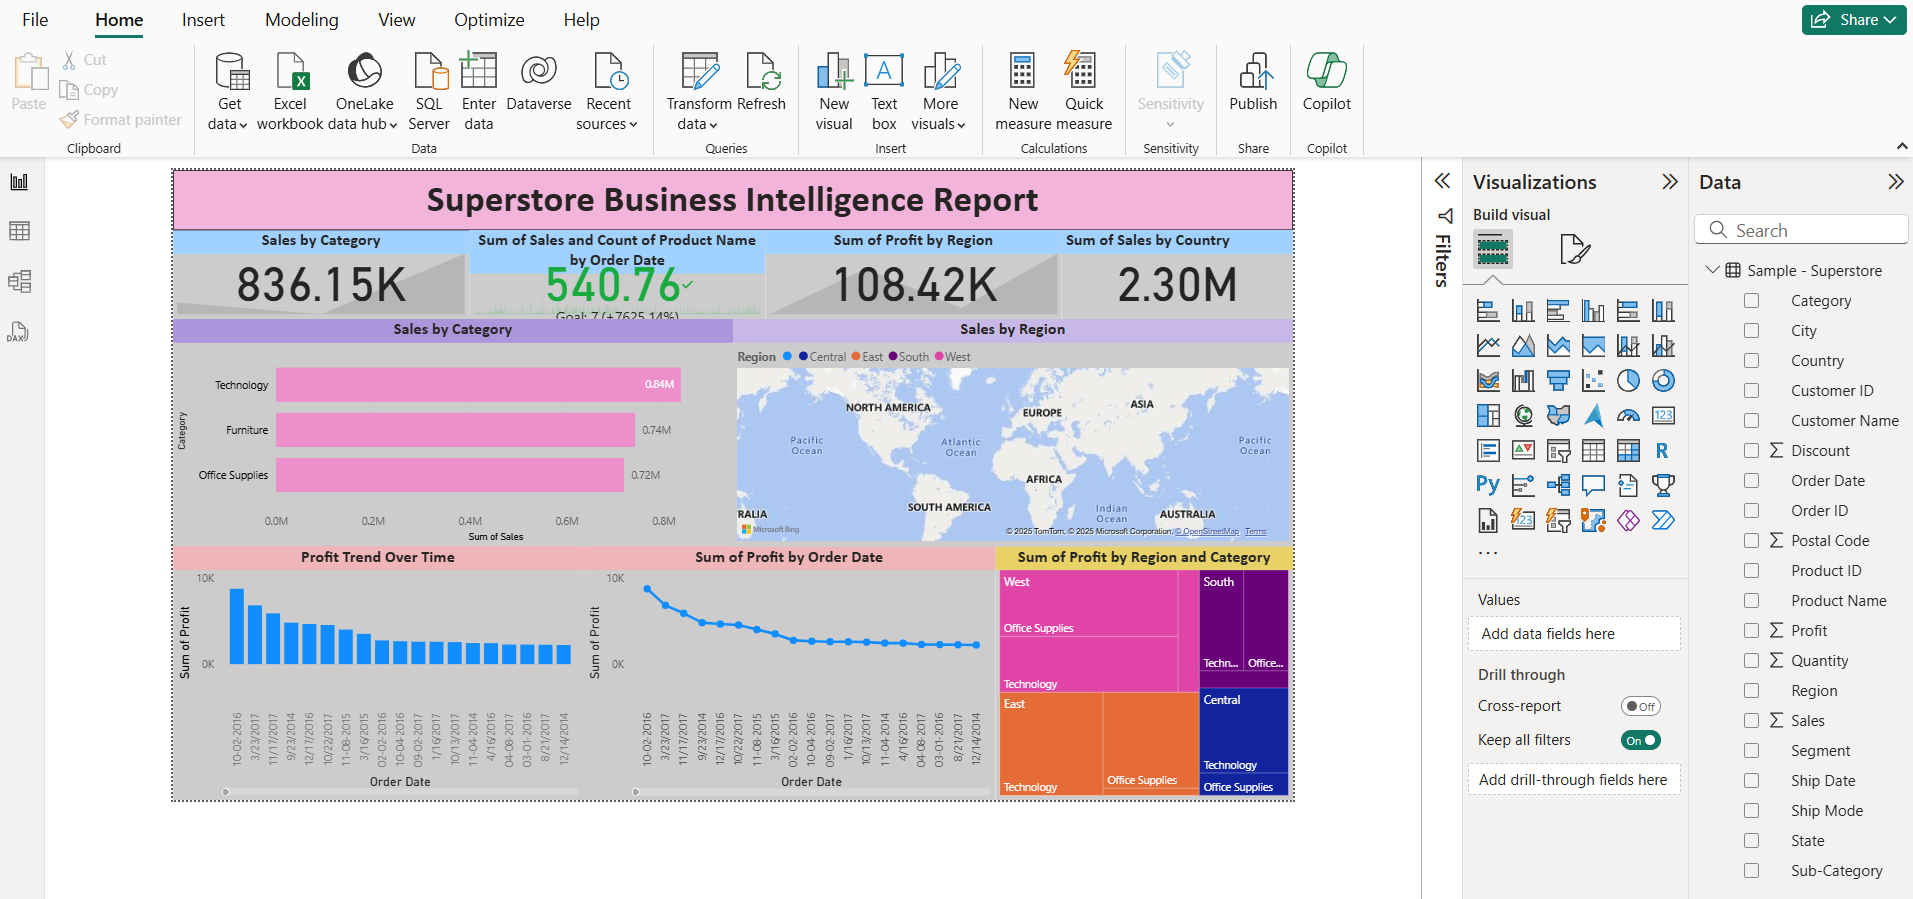

What the dashboard file says about the page in this screenshot:
{"tool":"powerbi","page":{"name":"Page 1","canvas":[1280,720],"ordinal":0},"visuals":[{"type":"barChart","title":"Sales by Category","fields":{"Category":["Sample - Superstore.Category"],"Y":["Sum(Sample - Superstore.Sales)"]},"box":[0,170,640,260],"z":0},{"type":"lineStackedColumnComboChart","title":"Profit Trend Over Time","fields":{"Category":["Sample - Superstore.Order Date"],"Y":["Sum(Sample - Superstore.Profit)"]},"box":[0,430,468.6,290],"z":1000},{"type":"kpi","title":"Sales by Category","fields":{"Indicator":["Sum(Sample - Superstore.Sales)"],"TrendLine":["Sample - Superstore.Category"]},"box":[0,68.6,338.6,101.4],"z":2000},{"type":"treemap","fields":{"Group":["Sample - Superstore.Region"],"Values":["Sum(Sample - Superstore.Profit)"],"Details":["Sample - Superstore.Category"]},"box":[940,430,340,290],"z":3000},{"type":"textbox","box":[0,0,1280,68.6],"z":4000},{"type":"filledMap","title":"Sales by Region","fields":{"Series":["Sample - Superstore.Region"]},"box":[640,170,640,260],"z":5000},{"type":"lineChart","fields":{"Y":["Sum(Sample - Superstore.Profit)"],"Category":["Sample - Superstore.Order Date"]},"box":[468.6,430,471.4,290],"z":6000},{"type":"kpi","fields":{"Indicator":["Sum(Sample - Superstore.Sales)"],"TrendLine":["Sample - Superstore.Order Date"],"Goal":["CountNonNull(Sample - Superstore.Product Name)"]},"box":[338.6,68.6,338.6,101.4],"z":7000},{"type":"kpi","fields":{"Indicator":["Sum(Sample - Superstore.Profit)"],"TrendLine":["Sample - Superstore.Region"]},"box":[677.1,68.6,338.6,101.4],"z":8000},{"type":"kpi","fields":{"Indicator":["Sum(Sample - Superstore.Sales)"],"TrendLine":["Sample - Superstore.Country"]},"box":[1015.7,68.6,264.3,101.4],"z":8001}]}

Visuals, with their boxes on the page's 1280x720 design canvas (x1, y1, x2, y2). These are canvas units, not pixel positions in the 1913x899 screenshot, which may show the page scaled, cropped or inside an application window:
"Sales by Category" barChart: crop(0, 170, 640, 430)
"Profit Trend Over Time" lineStackedColumnComboChart: crop(0, 430, 469, 720)
"Sales by Category" kpi: crop(0, 69, 339, 170)
treemap - Sample - Superstore.Region x Sum(Sample - Superstore.Profit): crop(940, 430, 1280, 720)
textbox: crop(0, 0, 1280, 69)
"Sales by Region" filledMap: crop(640, 170, 1280, 430)
lineChart - Sum(Sample - Superstore.Profit) x Sample - Superstore.Order Date: crop(469, 430, 940, 720)
kpi - Sum(Sample - Superstore.Sales) x Sample - Superstore.Order Date: crop(339, 69, 677, 170)
kpi - Sum(Sample - Superstore.Profit) x Sample - Superstore.Region: crop(677, 69, 1016, 170)
kpi - Sum(Sample - Superstore.Sales) x Sample - Superstore.Country: crop(1016, 69, 1280, 170)
